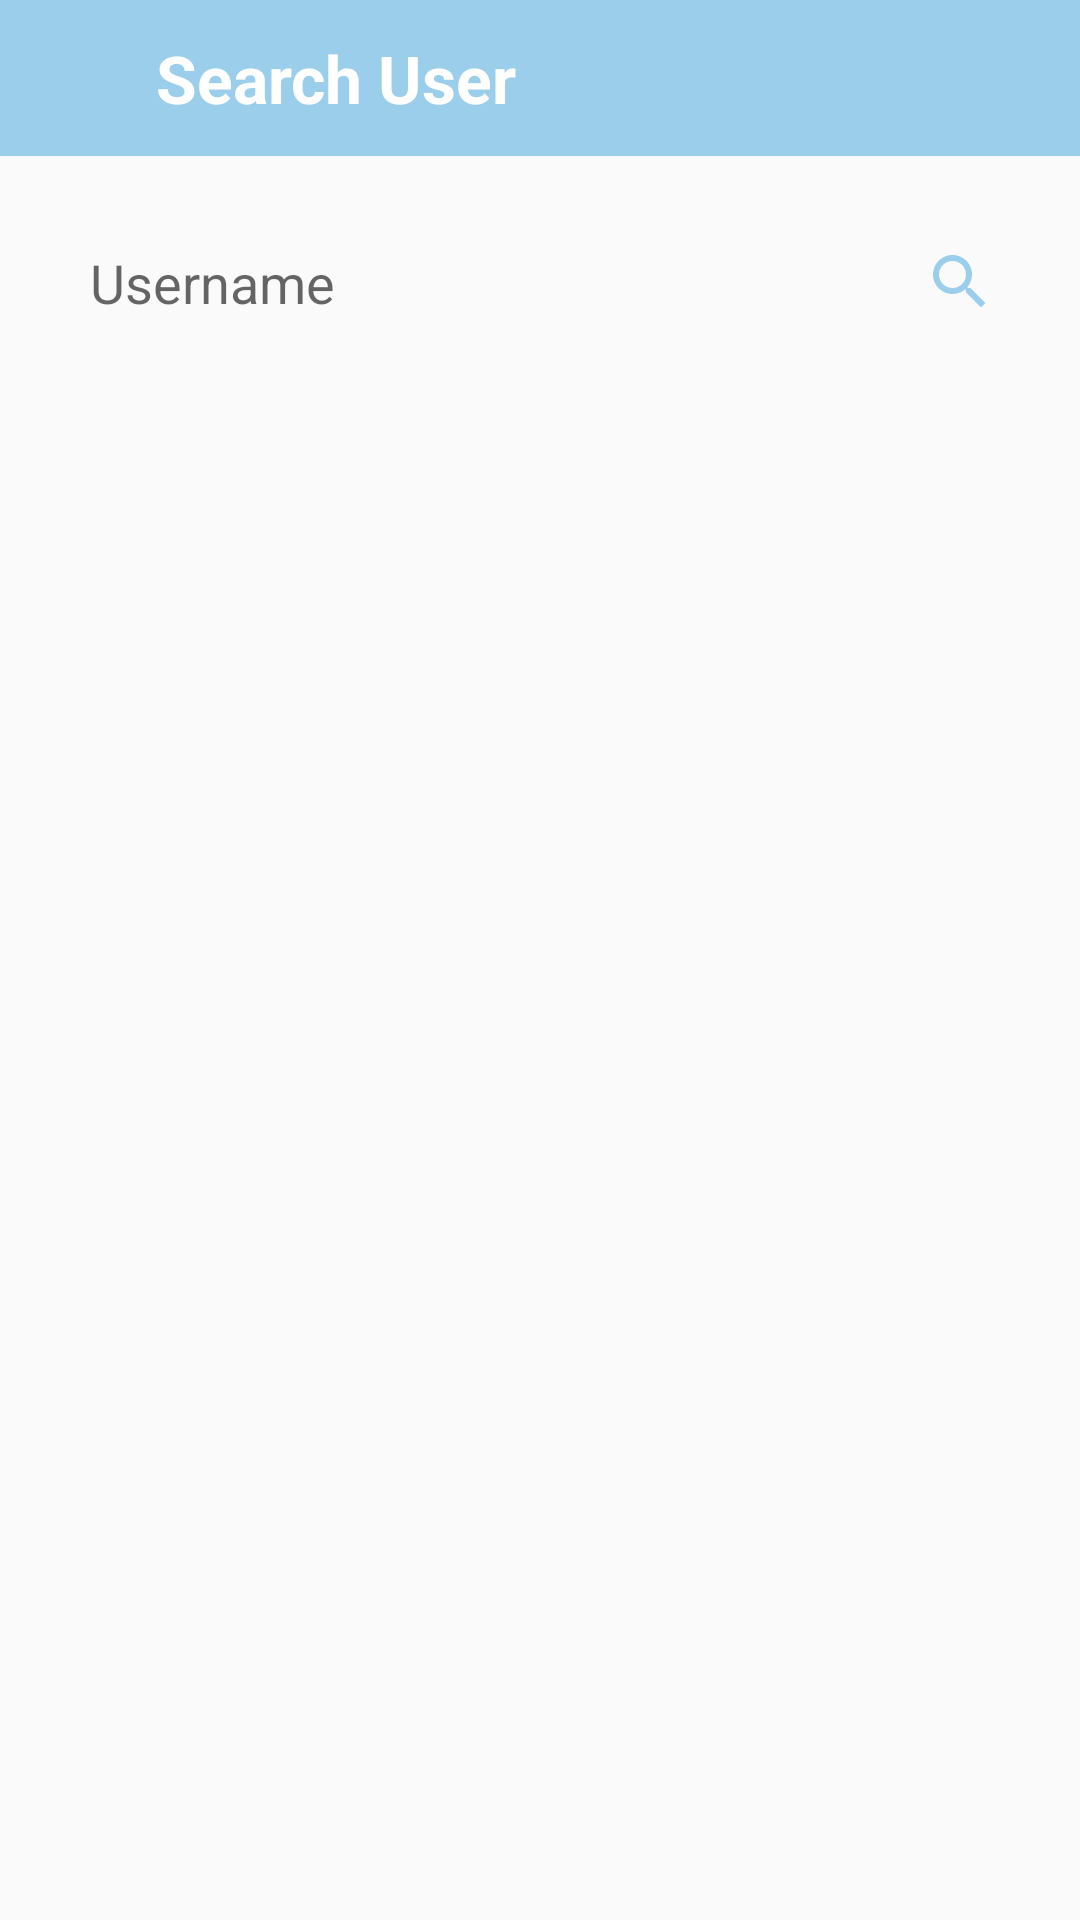

Screen size 1080px x 1920px. Icon name, then its center in pixels as [x,y]:
search: [959,281]
